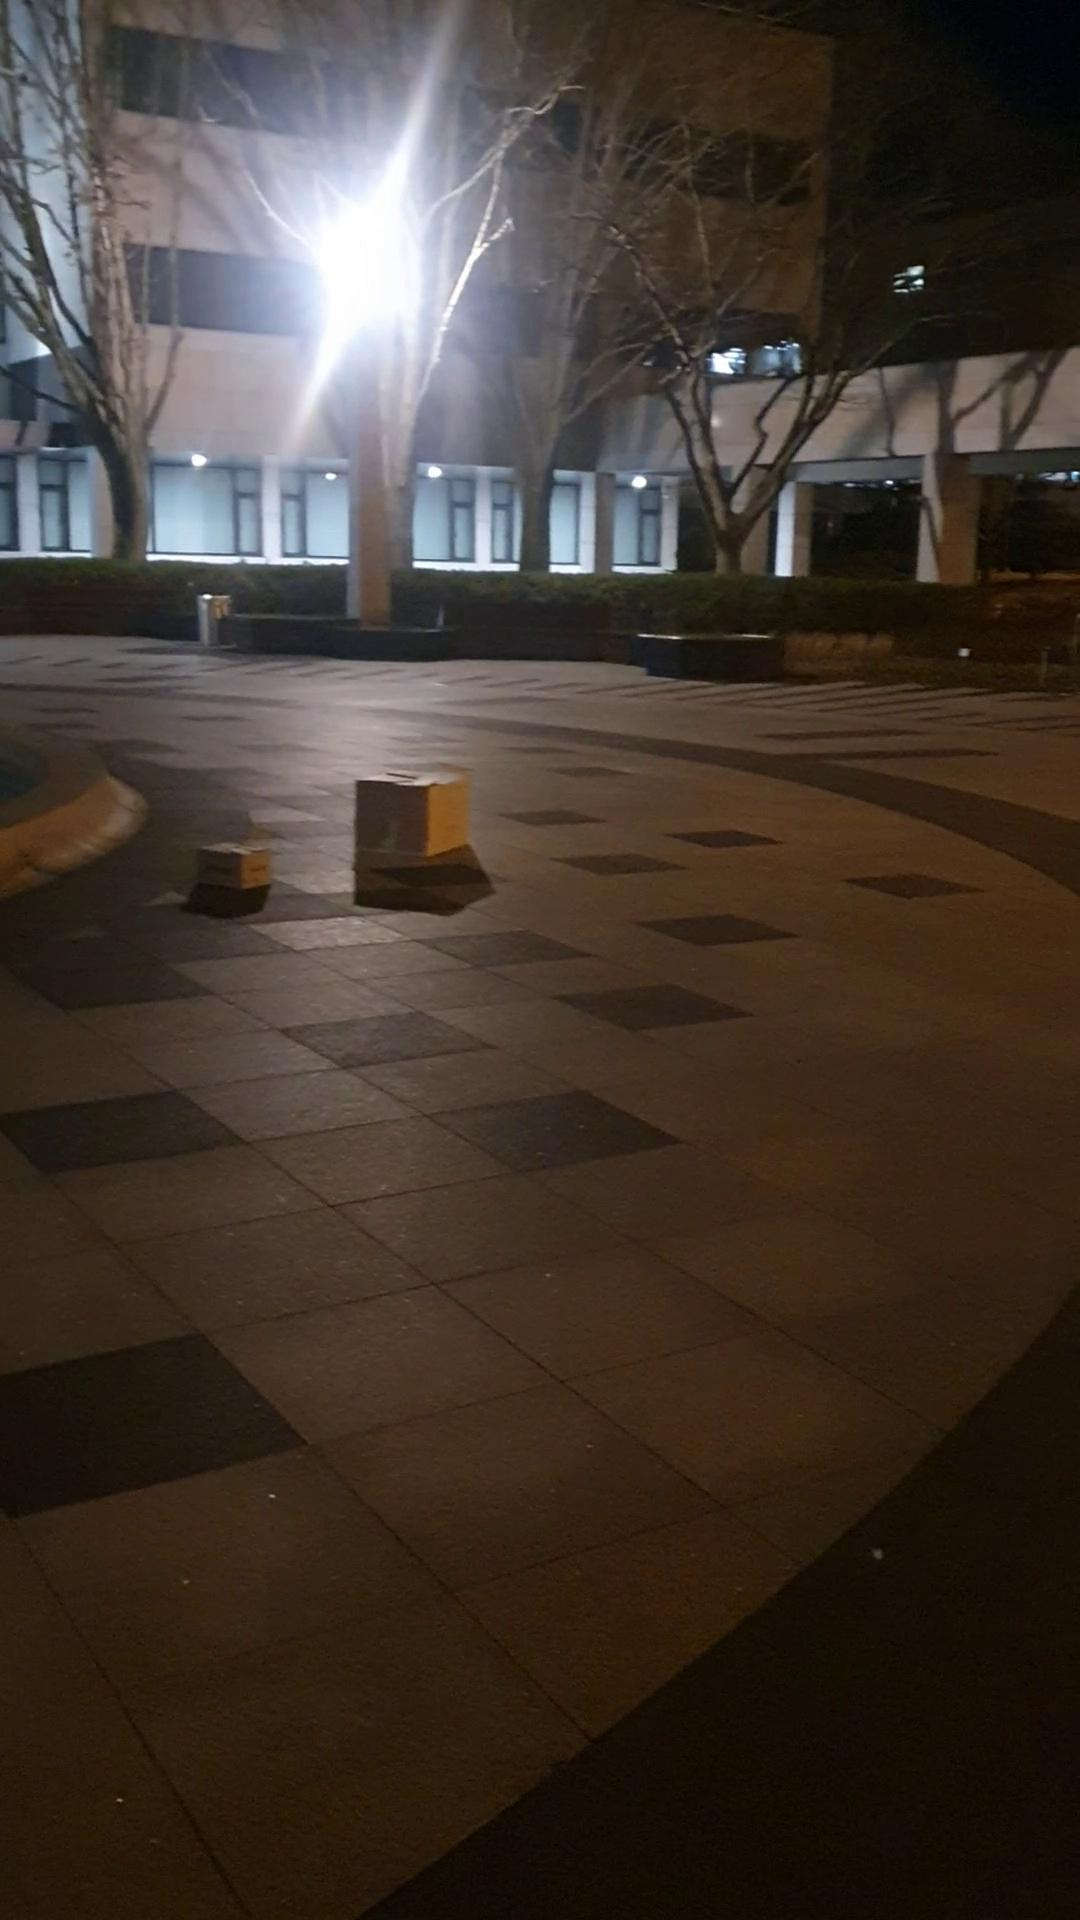Box: (345, 765, 465, 862), (183, 837, 282, 895)
